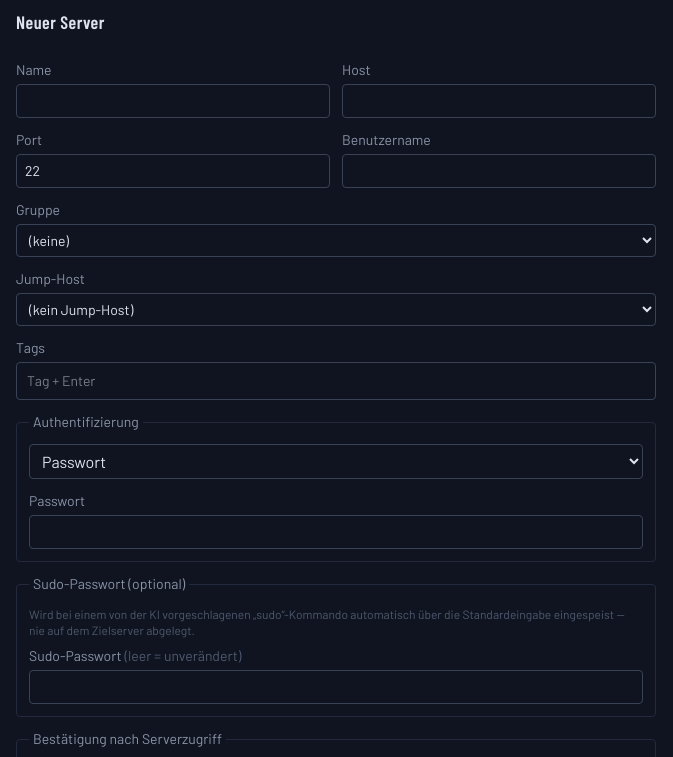
Scenario: ServerForm Ed25519 recommendation (Spec 0069, Teil C2) › disappears again when switching away from Private Key
Select "Private Key" in the 3rd dropdown. click: [336, 462]
box: [29,444,643,479]
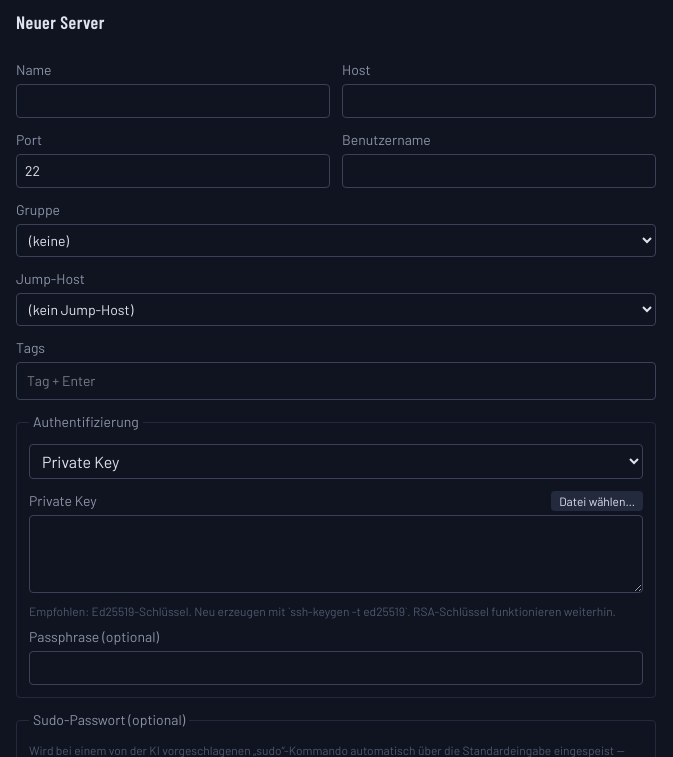
Check: the text "Empfohlen: Ed25519-Schlüssel. Neu erzeugen mit `ssh-keygen -t ed25519`. RSA-Schlüssel funktionieren weiterhin." is shown, box [29,604,616,618]
Select "SSH-Agent verwenden" in the 3rd dropdown. click: [336, 462]
box: [29,444,643,479]
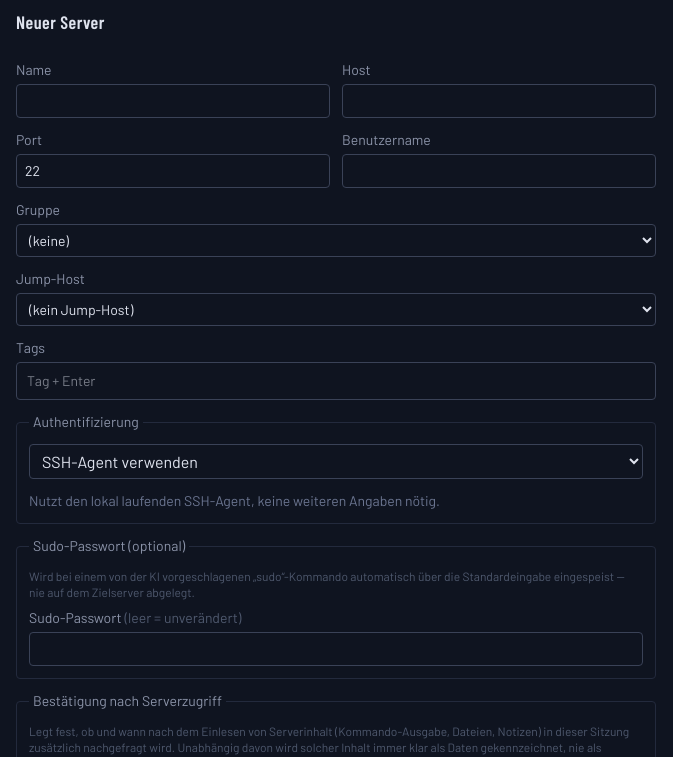
Check: the text "Empfohlen: Ed25519-Schlüssel. Neu erzeugen mit `ssh-keygen -t ed25519`. RSA-Schlüssel funktionieren weiterhin." is gone
